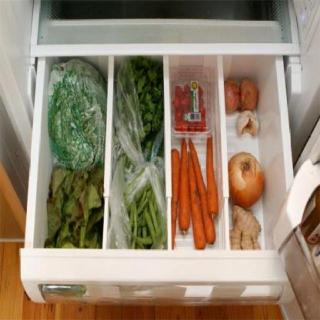carrot: (188, 152, 206, 252), (205, 132, 219, 224), (170, 143, 180, 250), (179, 133, 189, 236)
